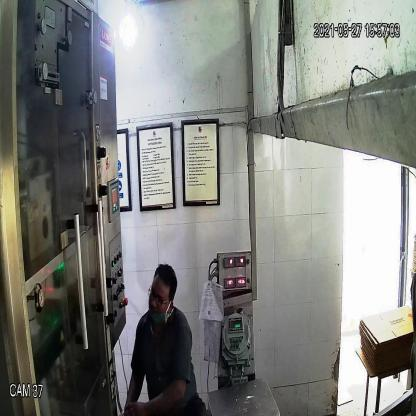goggles: (144, 281, 172, 309)
